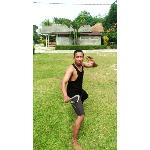Celurit: (60, 92, 90, 108)
